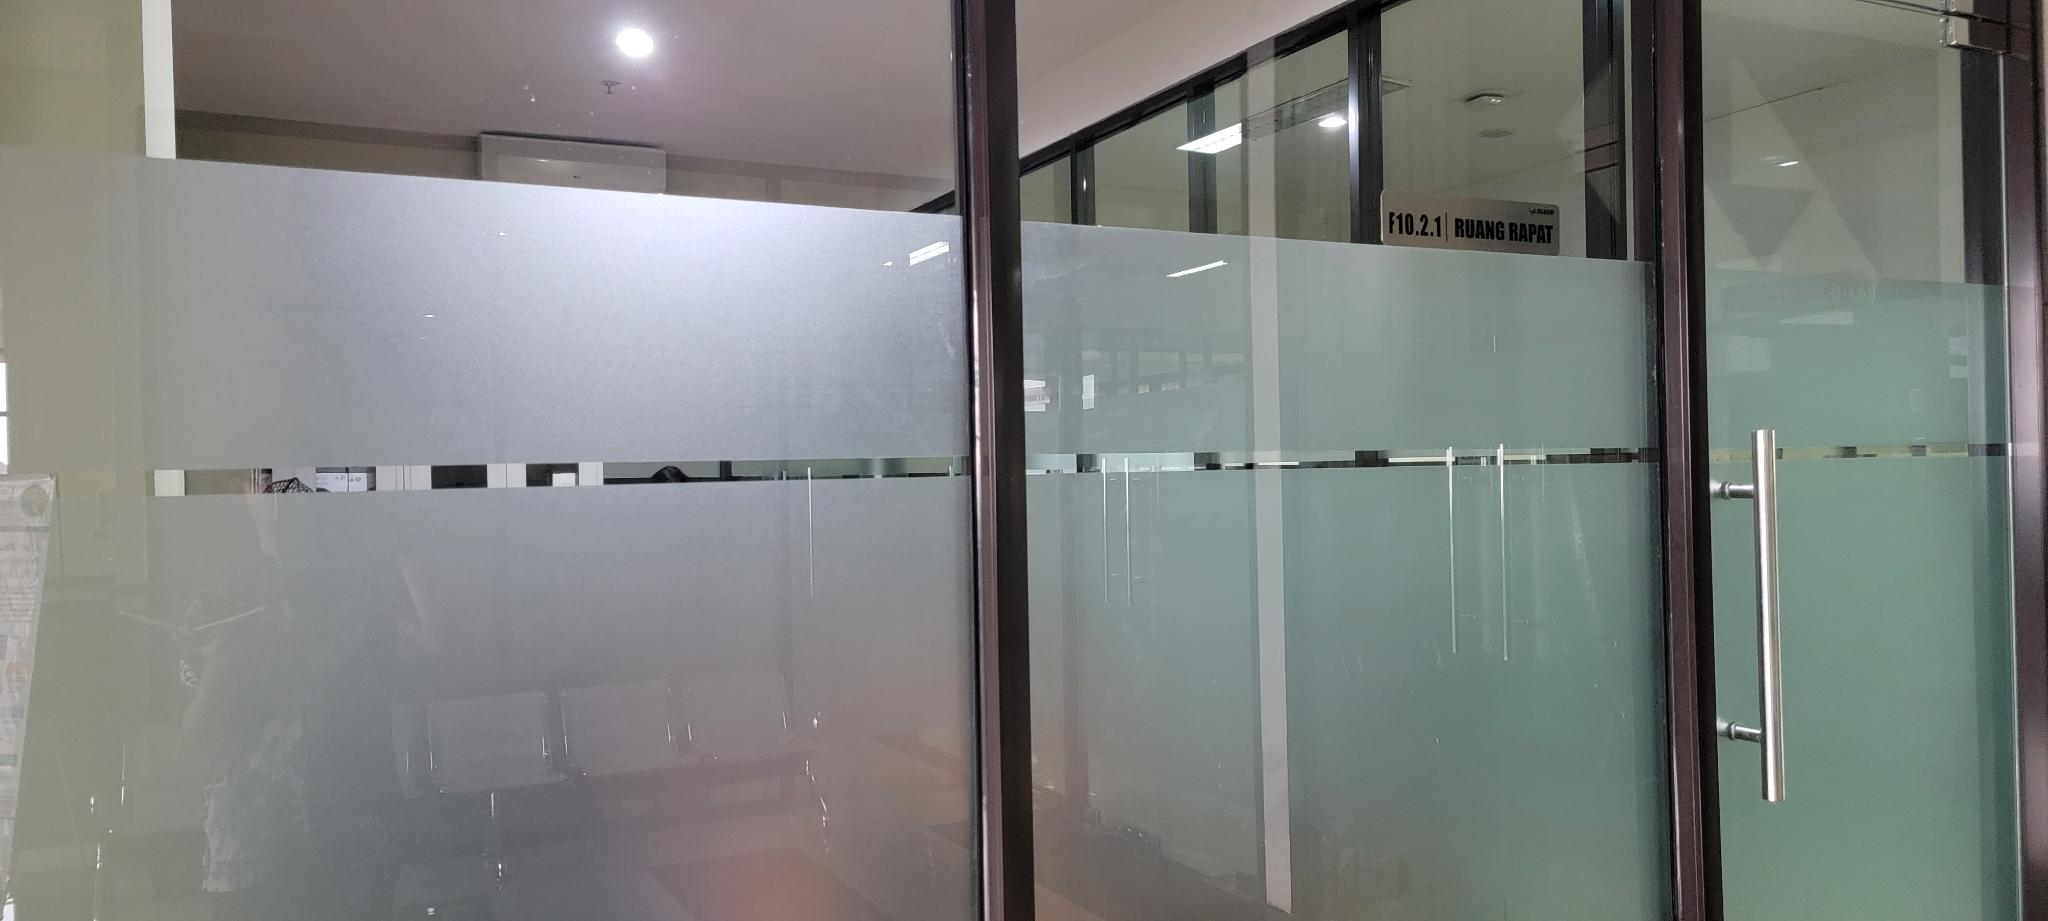plate: (1379, 188, 1561, 256)
